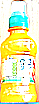orange: (2, 1, 37, 102)
